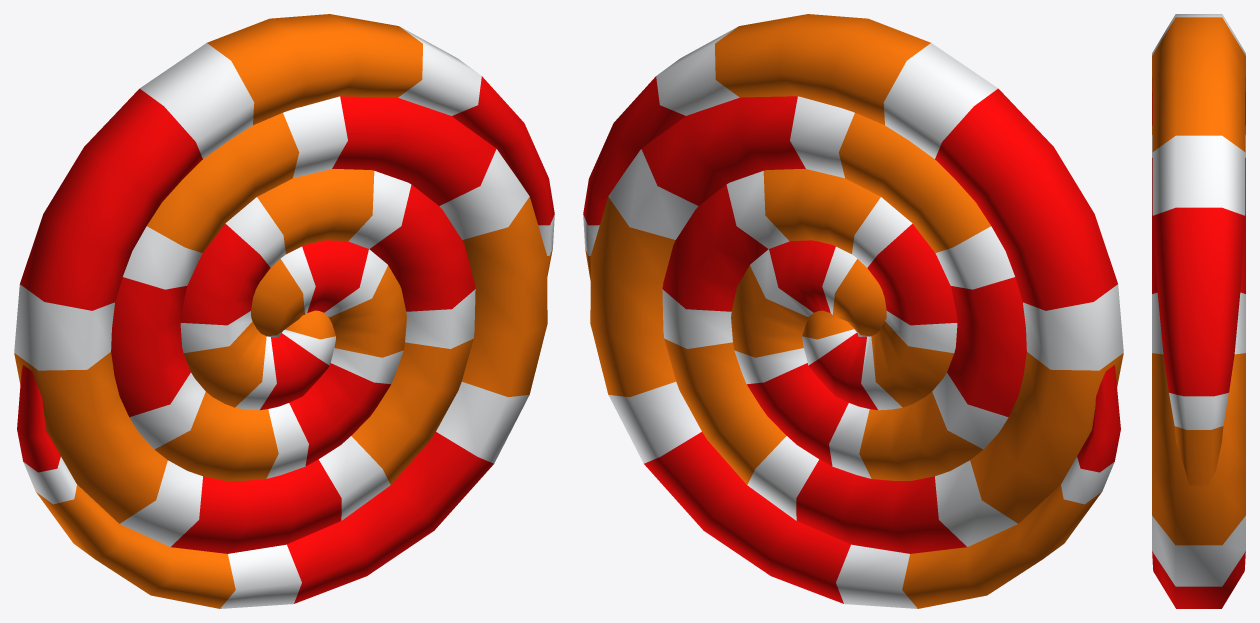
Rendered from lollipop_016.glb.
3 renders of one model, left to right at view 1: azimuth 30°, elevation 25°; view 2: azimuth 150°, elevation 25°; view 3: azimuth 270°, elevation 25°, orthographic. The views are drawn at different scales.
Visible parts, largest first — view 1: lollipop_016; view 2: lollipop_016; view 3: lollipop_016.
Part boxes in pixels (x1=…): lollipop_016: x1=14, y1=14, x2=554, y2=608; lollipop_016: x1=583, y1=14, x2=1123, y2=608; lollipop_016: x1=1152, y1=14, x2=1245, y2=608.
Size of the model in its own units: 4.1 by 4.25 by 0.6662.
1 material, 1 textured.
